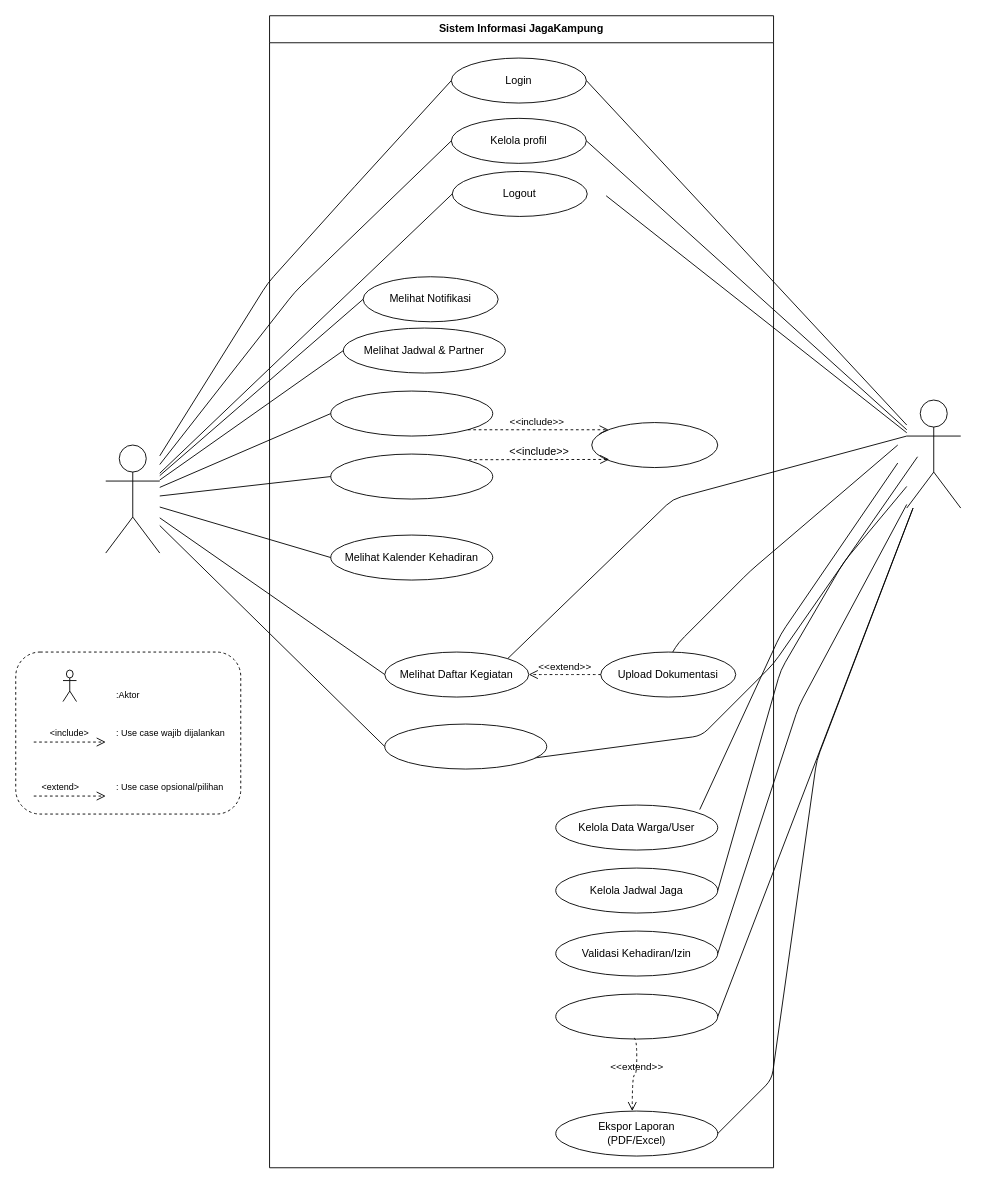
Some shapes in this 1000 by 1184 pixel diagram are drawn without their labels. Here are the shapes that lost their labels. From the top down, the box of each, then its label:
(330, 390, 493, 436): Melakukan Presensi Masuk
(591, 422, 718, 468): Validasi Lokasi (GPS)
(906, 399, 961, 508): Admin/Pengurus RW
(330, 453, 493, 499): Melakukan Presensi Pulang
(105, 444, 160, 553): Petugas Jaga / Warga
(384, 723, 547, 769): Melihat Laporan Keuangan
(555, 993, 718, 1039): Kelola Data Keuangan
